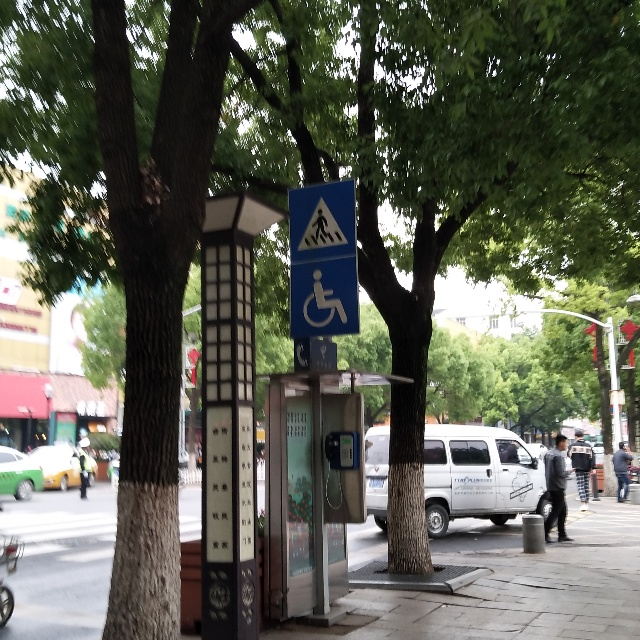crosswalk: (288, 193, 349, 251)
